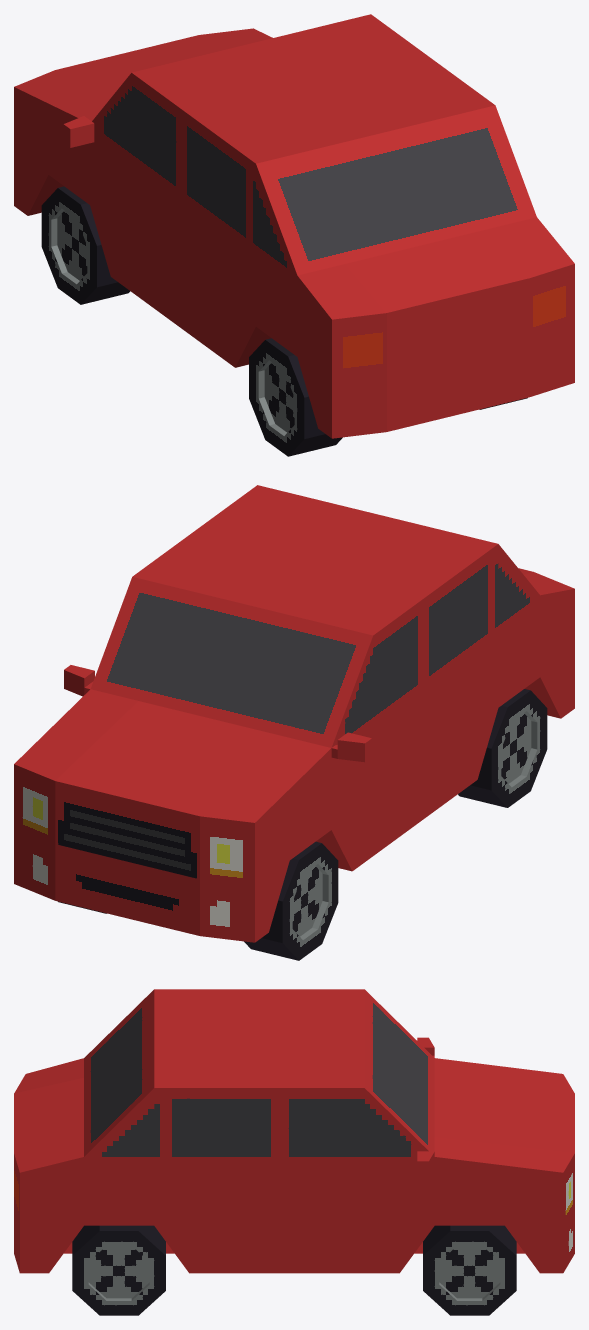
Rendered from test_car.gltf.
3 views of the same model, one above another, from view 1: azimuth 30°, elevation 25°; view 2: azimuth 150°, elevation 25°; view 3: azimuth 270°, elevation 25° (orthographic). The views are drawn at different scales.
Visible parts, largest first — view 1: cuboid, cylinder (×2), mirror_right; view 2: cuboid, cylinder (×2), mirror_right (×2); view 3: cuboid, cylinder (×2), mirror_right.
Part boxes in pixels (x1,y1,x2,y2): cuboid: (14, 14, 574, 438); cylinder (×2): (41, 186, 342, 456); mirror_right: (63, 116, 94, 147); cuboid: (14, 485, 574, 942); cylinder (×2): (244, 689, 547, 960); mirror_right (×2): (64, 665, 371, 762); cuboid: (14, 989, 574, 1273); cylinder (×2): (72, 1225, 516, 1315); mirror_right: (417, 1151, 434, 1177).
Bounding box in the file's own units: 3.12 × 2.69 × 6.
1 material, 1 textured.
